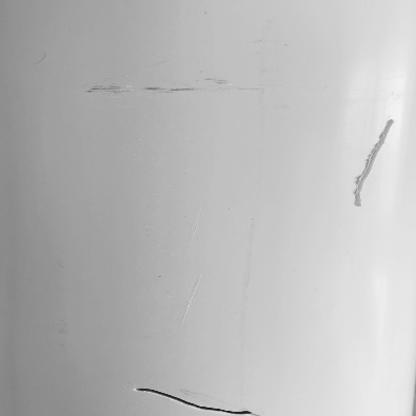fengxi: (129, 384, 252, 416)
sunshang: (351, 121, 399, 207), (88, 82, 234, 99)
